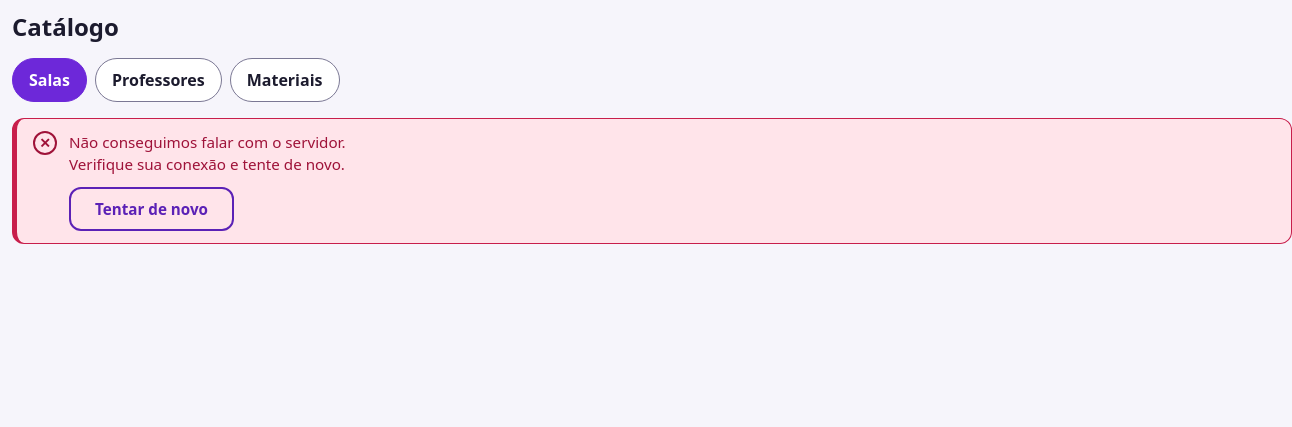
Scenario: PaginaDoCatalogo: abas e lista › falha de rede mostra a mensagem de rede e Tentar de novo consulta de novo
expect the message shows "Não conseguimos falar com o servidor.": met, box [69,132,346,152]
Step 1. Click the button "Tentar de novo" → (152, 209), box [69,187,234,231]
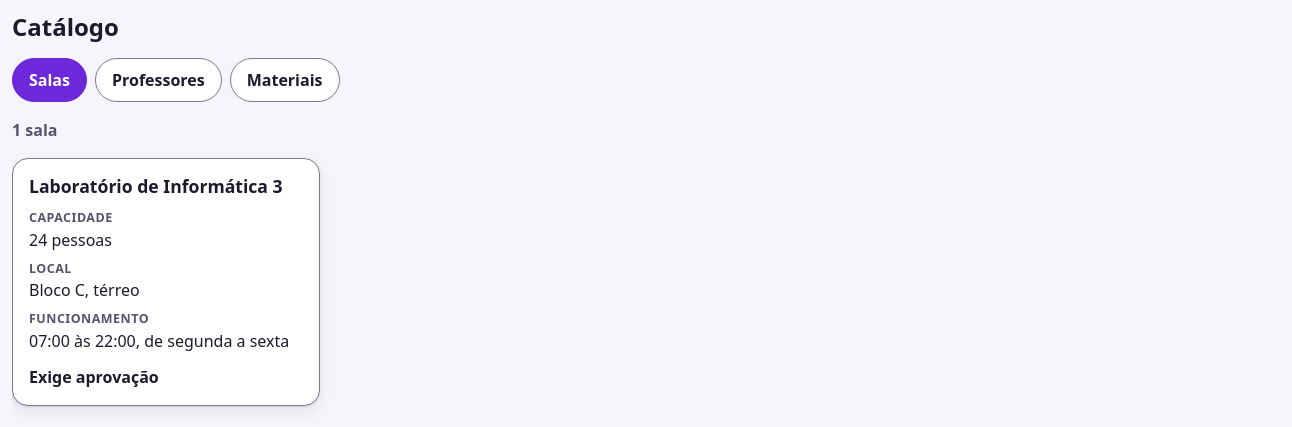
expect the element "Laboratório de Informática 3" is shown: met, box [12,158,320,406]
